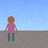person: (5, 16, 18, 41)
